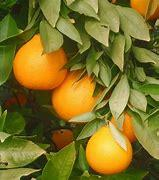orange: (10, 25, 74, 96), (43, 64, 104, 120), (80, 118, 140, 173)
